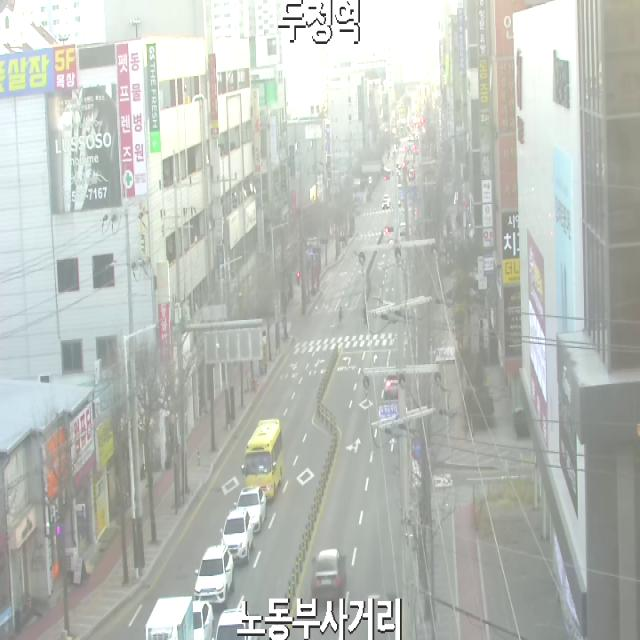Car: (241, 418, 282, 503), (194, 545, 234, 603), (220, 508, 254, 564), (311, 548, 346, 598), (234, 486, 267, 532), (212, 610, 259, 640), (193, 602, 214, 640), (384, 372, 398, 400), (400, 222, 406, 235), (382, 201, 389, 209), (384, 195, 390, 204)
Truck: (144, 596, 192, 640)
